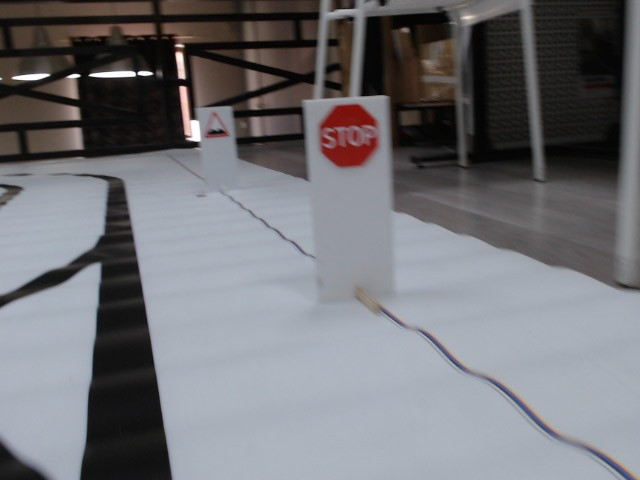Nerov: (204, 111, 231, 141)
Stop: (321, 104, 379, 167)
